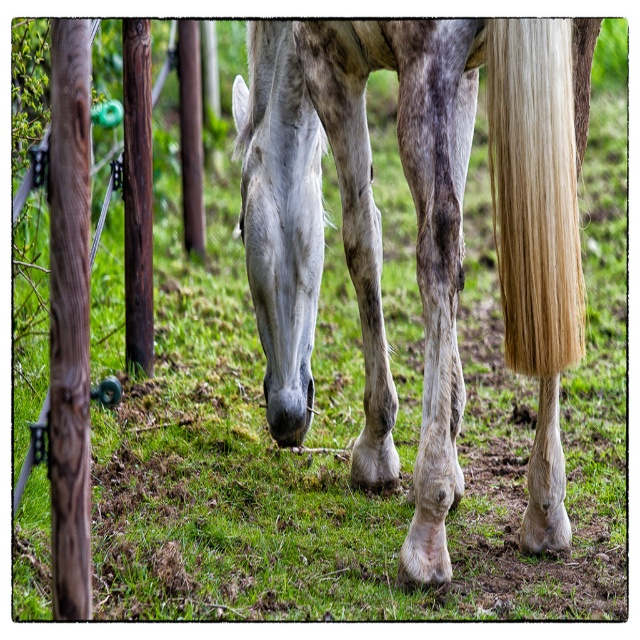Horse: (228, 17, 604, 600)
